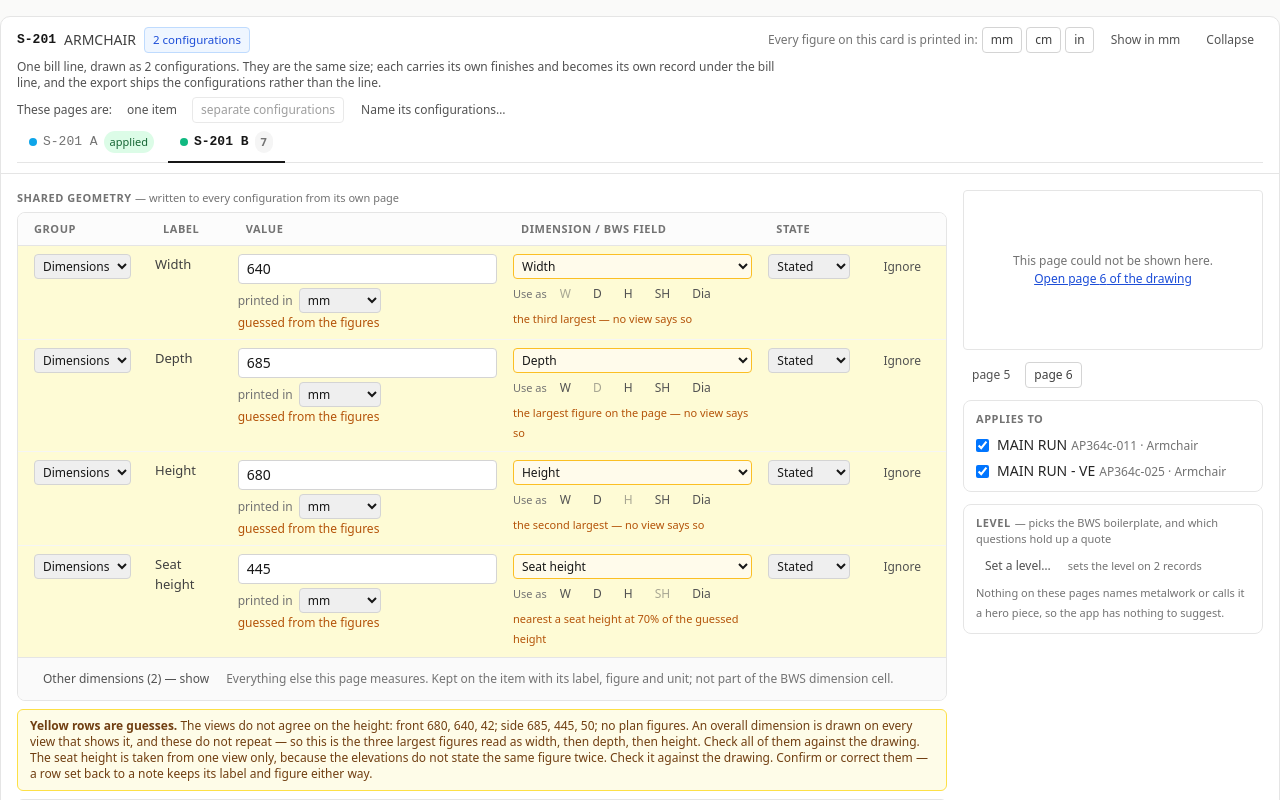
Test: the configuration card › collapses a configuration that has already been applied
Click the tab "S-201 A applied": (92, 143) [17,123,166,163]
(page scrolled)
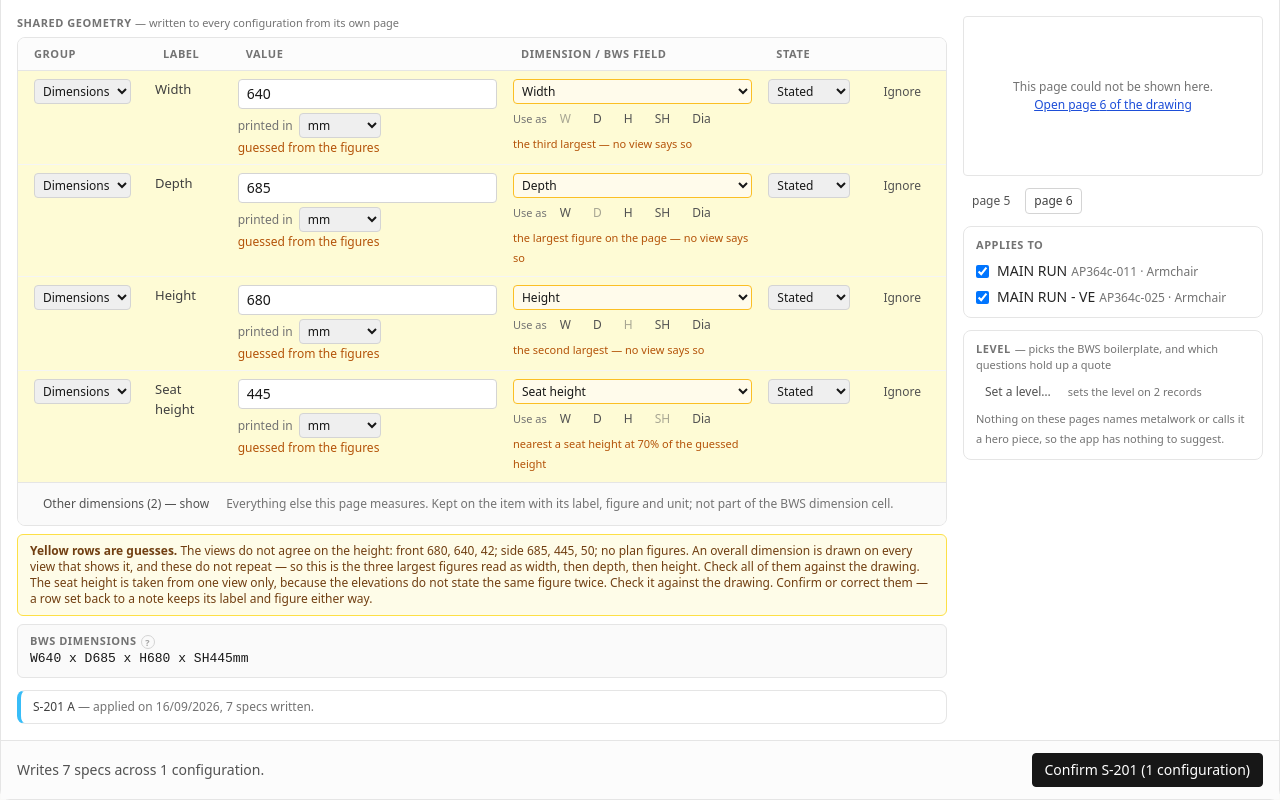
Expected: the button "Confirm S-201 (1 configuration)" is shown, [1032,753,1263,787]
Now the text "S-201 A — applied on 16/09/2026, 7 specs written." is shown, box [17,690,947,724]
